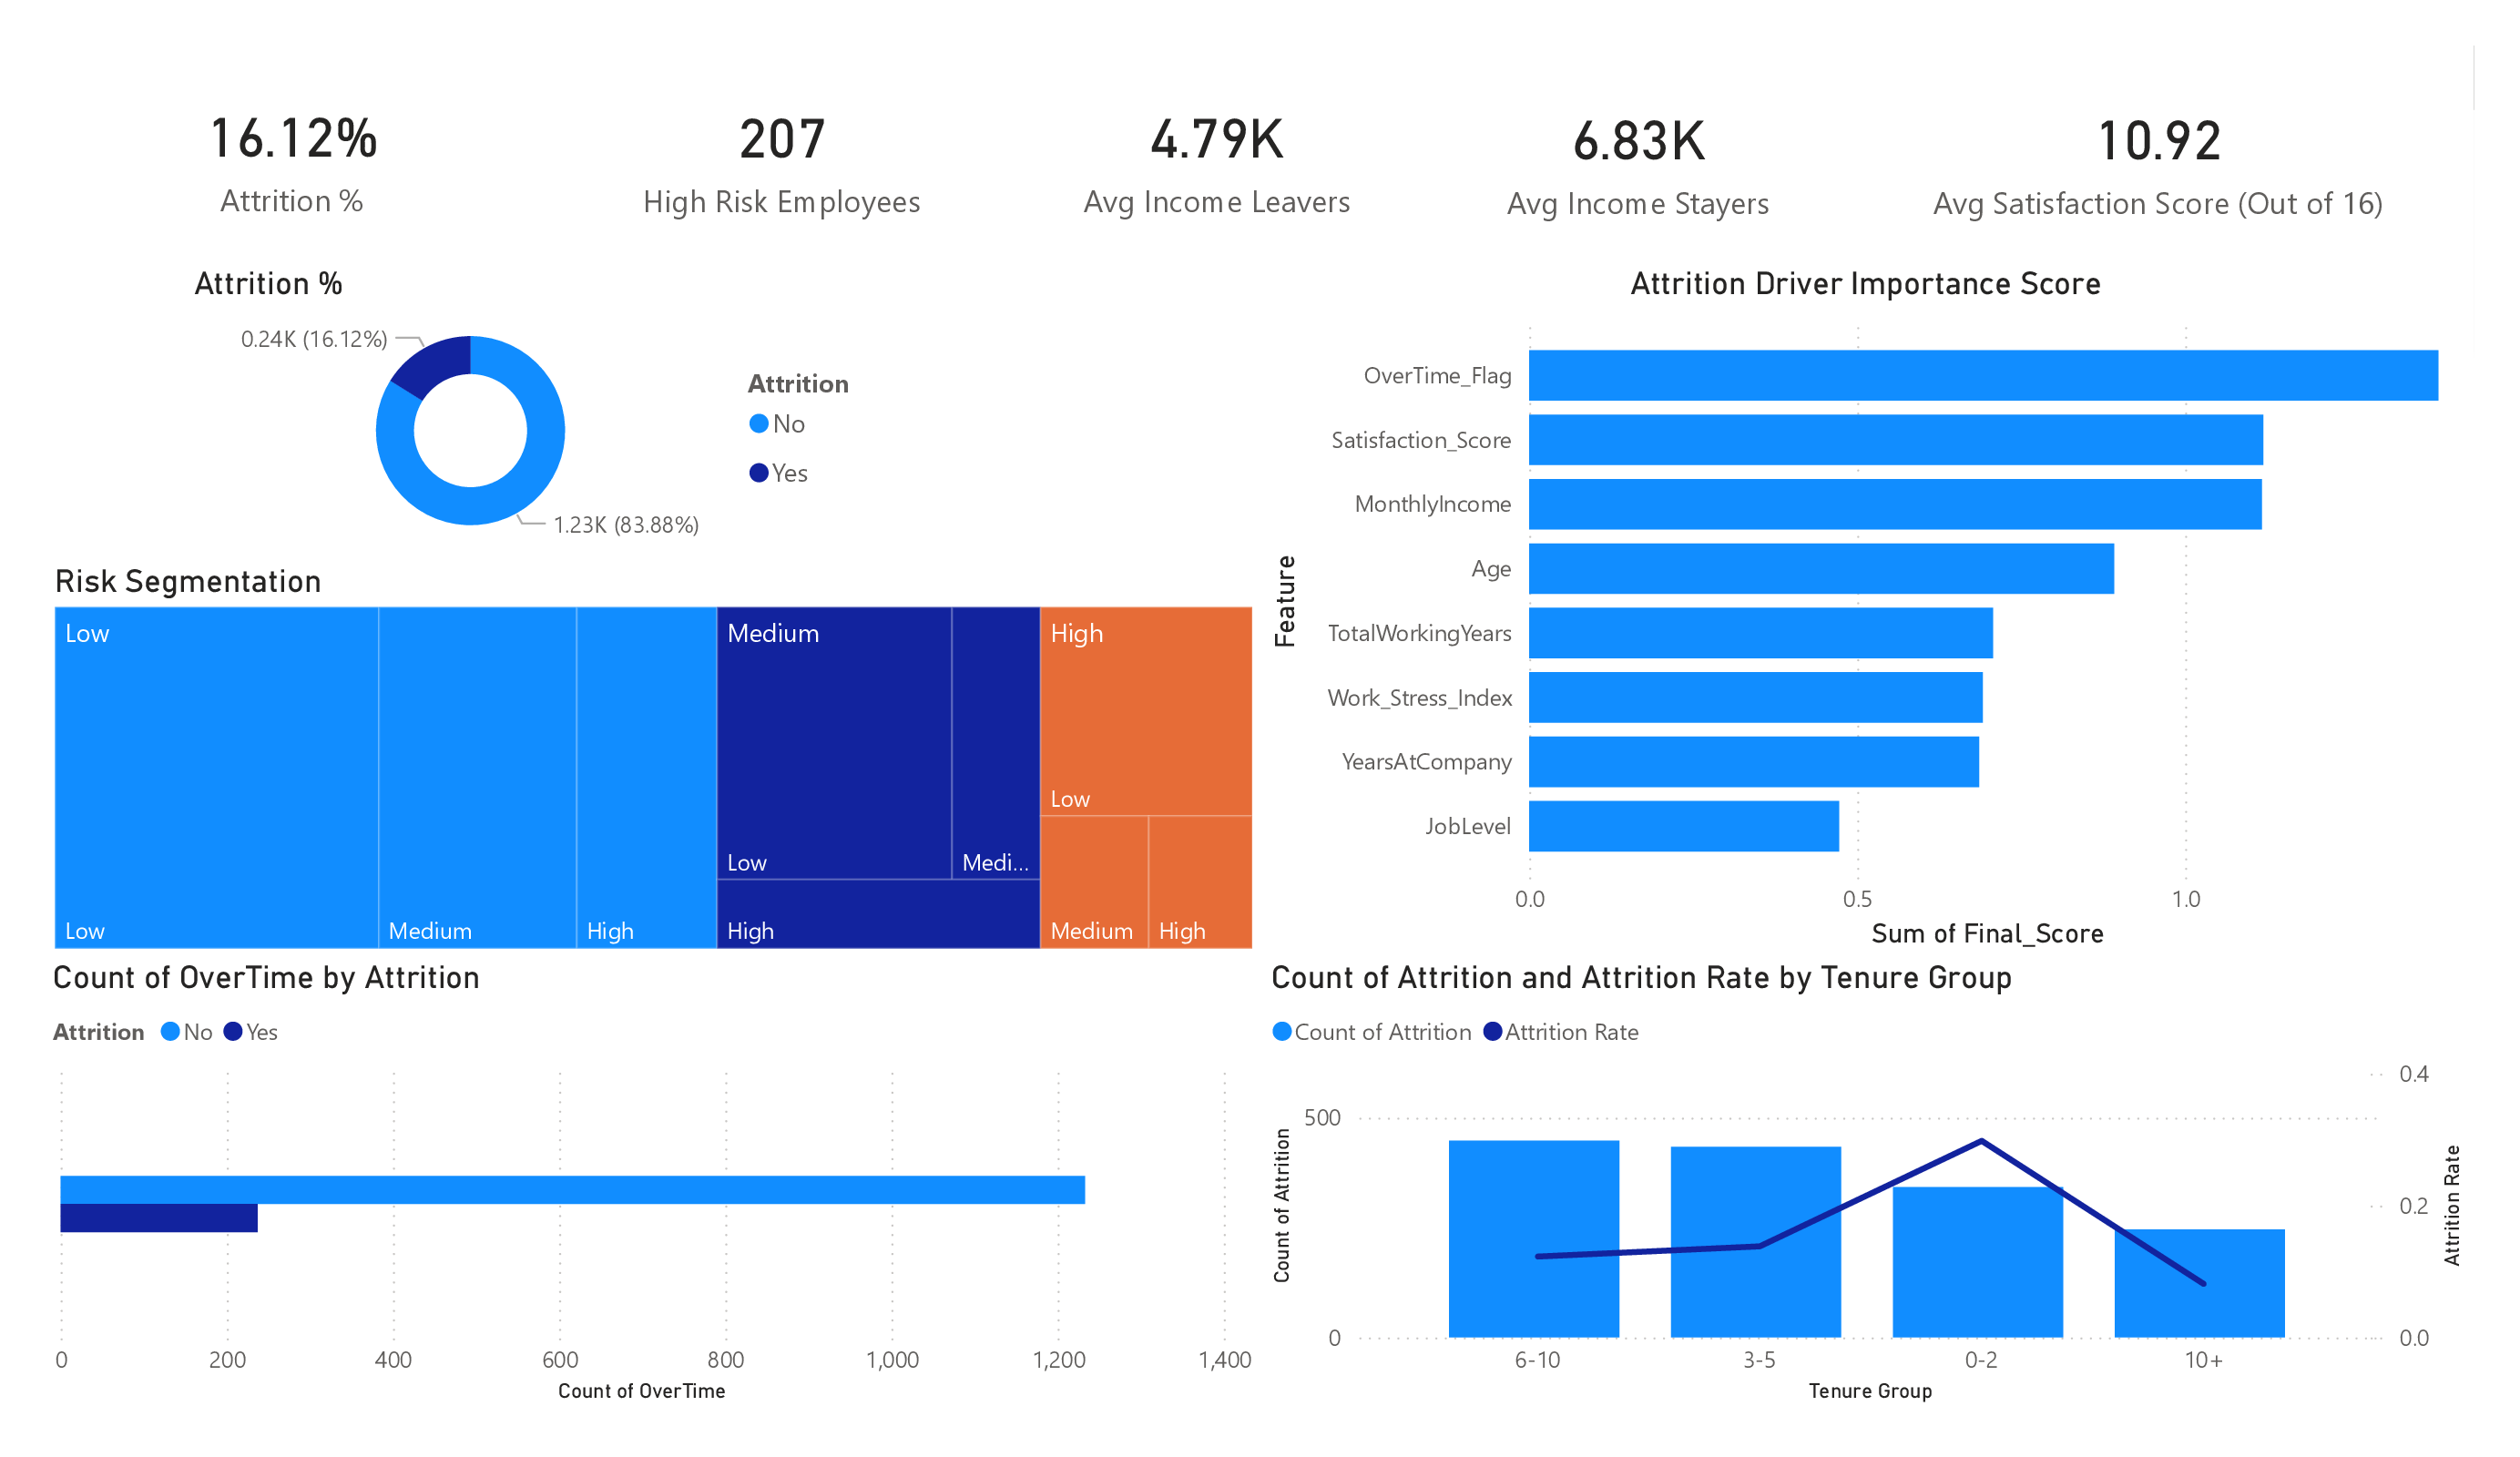

This screenshot's page, from the dashboard's own definition file:
{"tool":"powerbi","page":{"name":"Dashboard","canvas":[1280,720],"ordinal":0},"visuals":[{"type":"clusteredBarChart","fields":{"Y":["CountNonNull(HR_Attrition_Final.OverTime)"],"Series":["HR_Attrition_Final.Attrition"]},"box":[-0.5,481,641.4,238.5],"z":0},{"type":"lineStackedColumnComboChart","fields":{"Y":["CountNonNull(HR_Attrition_Final.Attrition)"],"Y2":["HR_Attrition_Final.Attrition Rate"],"Category":["HR_Attrition_Final.Tenure Group"]},"box":[641,481,638,239],"z":1000},{"type":"treemap","title":"Risk Segmentation","fields":{"Values":["HR_Attrition_Final.Attrition Rate"],"Group":["HR_Attrition_Final.Satisfaction Group"],"Details":["HR_Attrition_Final.Income Group"]},"box":[-0.1,272.5,641.4,208.7],"z":2000},{"type":"donutChart","title":"Attrition %","fields":{"Category":["HR_Attrition_Final.Attrition"],"Y":["CountNonNull(HR_Attrition_Final.Age)"]},"box":[73,115,373,157],"z":3000},{"type":"barChart","title":"Attrition Driver Importance Score","fields":{"Category":["Attrition_Driver_Ranking.Feature"],"Y":["Sum(Attrition_Driver_Ranking.Final_Score)"]},"box":[640,115,639,366],"z":4000},{"type":"card","fields":{"Values":["HR_Attrition_Final.High Risk Employees"]},"box":[260,0,256,115],"z":5000},{"type":"card","fields":{"Values":["HR_Attrition_Final.Avg Income Leavers"]},"box":[516,0,203,115],"z":6000},{"type":"card","fields":{"Values":["HR_Attrition_Final.Avg Income Stayers"]},"box":[719,0,241,117],"z":7000},{"type":"card","fields":{"Values":["HR_Attrition_Final.Avg Satisfaction Score"]},"box":[960,0,307,117],"z":8000},{"type":"card","fields":{"Values":["HR_Attrition_Final.Attrition %"]},"box":[-0.1,-0.7,260.1,116],"z":9000}]}

Visuals, with their boxes on the page's 1280x720 design canvas (x1, y1, x2, y2). These are canvas units, not pixel positions in the 2520x1457 screenshot, which may show the page scaled, cropped or inside an application window:
clusteredBarChart - CountNonNull(HR_Attrition_Final.OverTime) x HR_Attrition_Final.Attrition: (x1=0, y1=481, x2=641, y2=720)
lineStackedColumnComboChart - CountNonNull(HR_Attrition_Final.Attrition) x HR_Attrition_Final.Attrition Rate: (x1=641, y1=481, x2=1279, y2=720)
"Risk Segmentation" treemap: (x1=0, y1=272, x2=641, y2=481)
"Attrition %" donutChart: (x1=73, y1=115, x2=446, y2=272)
"Attrition Driver Importance Score" barChart: (x1=640, y1=115, x2=1279, y2=481)
card - HR_Attrition_Final.High Risk Employees: (x1=260, y1=0, x2=516, y2=115)
card - HR_Attrition_Final.Avg Income Leavers: (x1=516, y1=0, x2=719, y2=115)
card - HR_Attrition_Final.Avg Income Stayers: (x1=719, y1=0, x2=960, y2=117)
card - HR_Attrition_Final.Avg Satisfaction Score: (x1=960, y1=0, x2=1267, y2=117)
card - HR_Attrition_Final.Attrition %: (x1=0, y1=-1, x2=260, y2=115)
